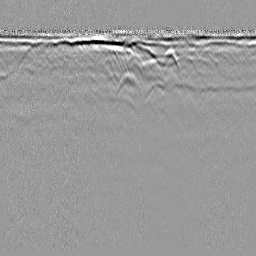cavity: (115, 68, 141, 94)
